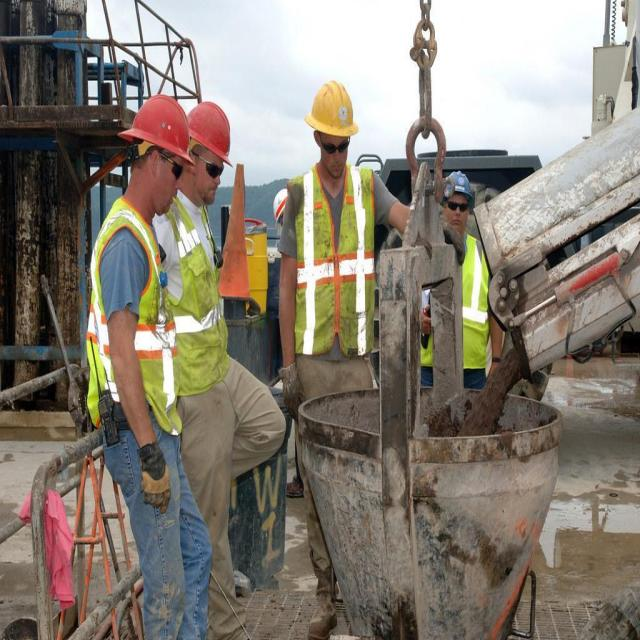Vest: (286, 158, 380, 362), (150, 185, 232, 392), (93, 199, 170, 411), (426, 225, 493, 370)
